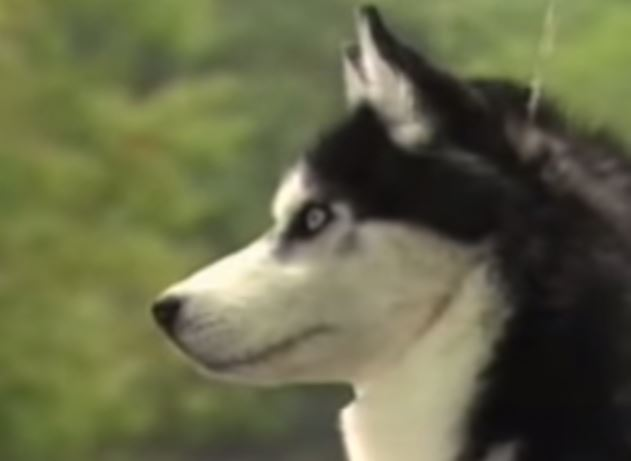husky: (139, 7, 627, 461)
